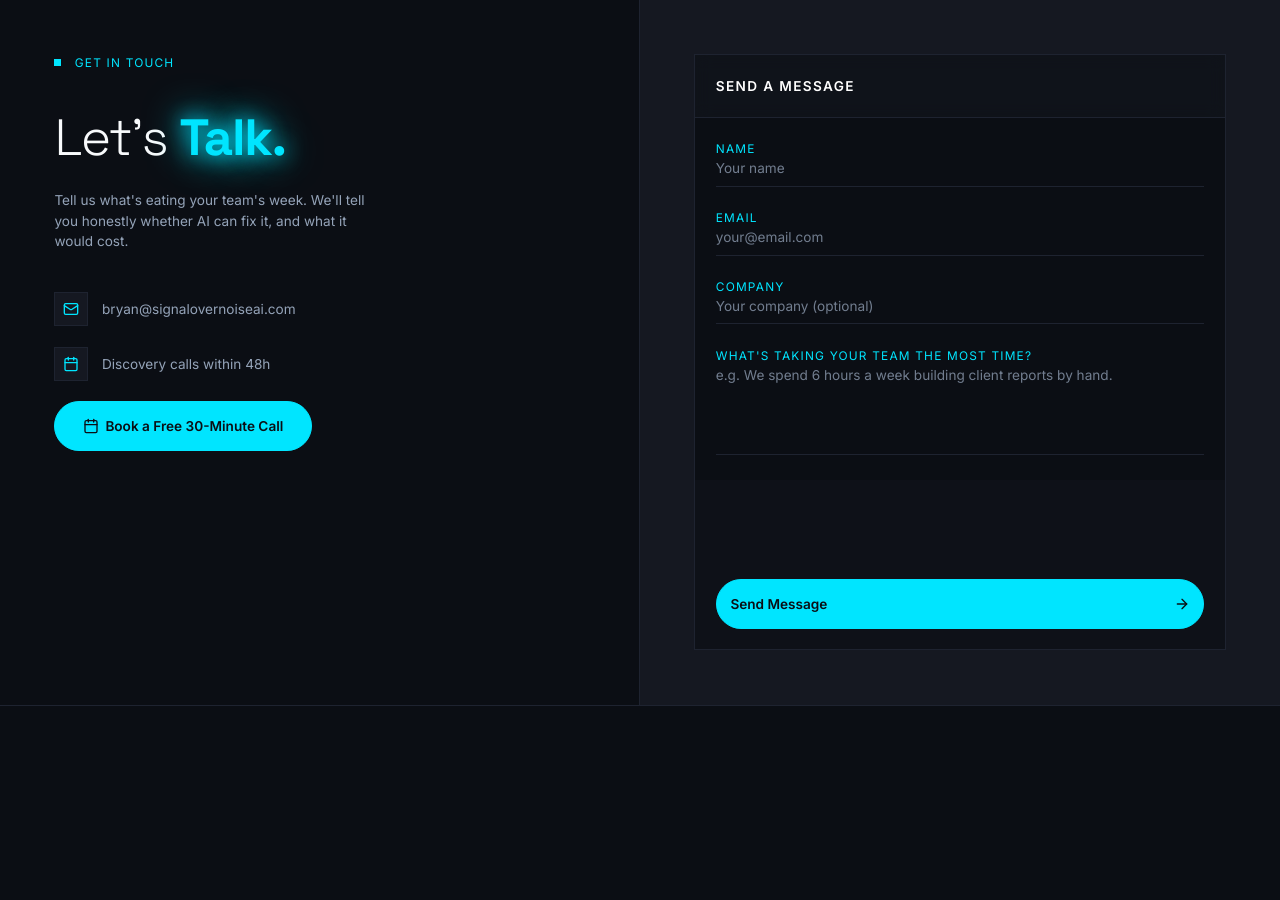
ContactSection when the send fails › keeps what the visitor typed so they can retry
Expected: the button "Send Message" is enabled, [716,579,1204,629]
Type "Ada" into the field labelled "Name" at (960, 172), box [716,158,1204,186]
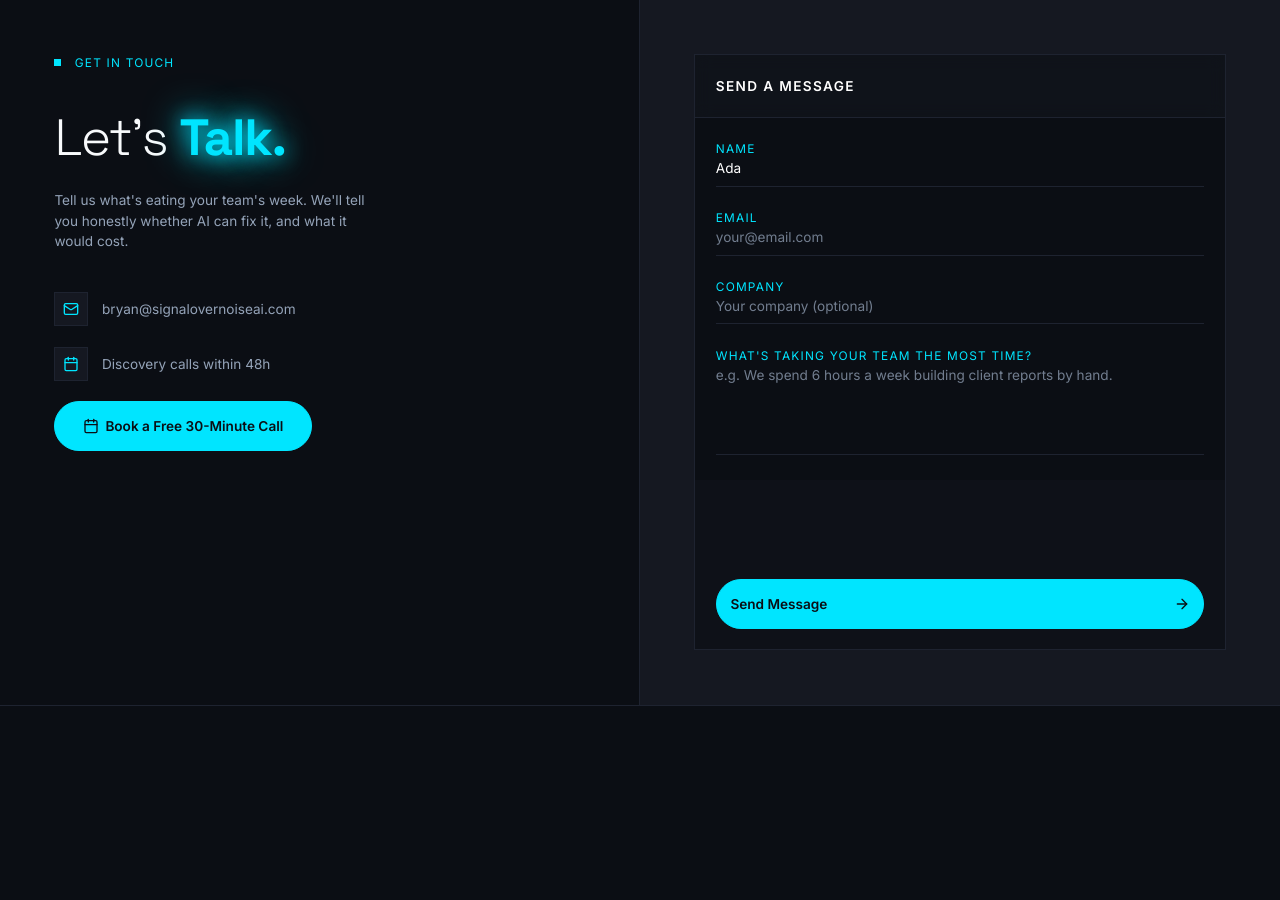
Type "ada@example.com" into the field labelled "Email" at (960, 241), box [716,227,1204,256]
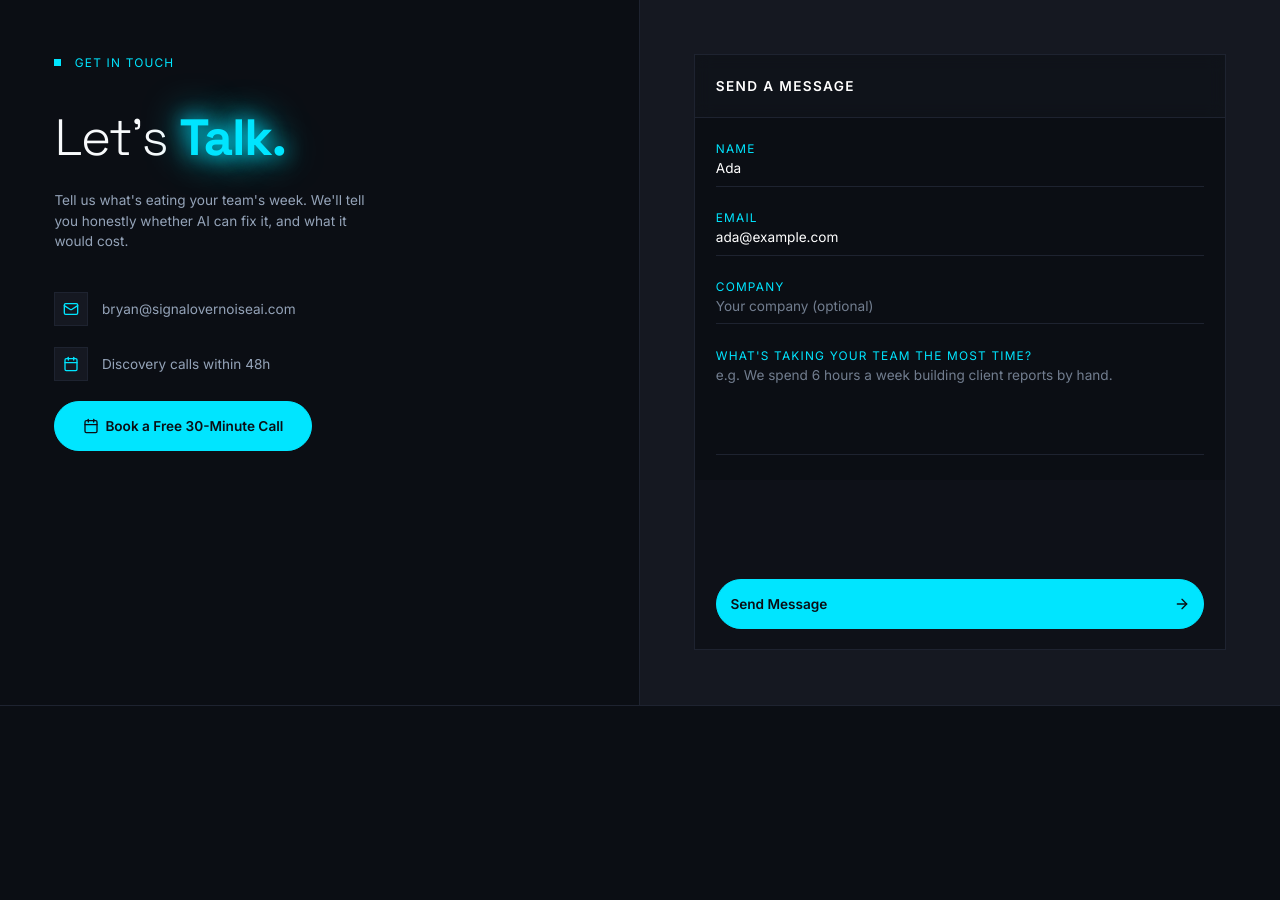
Replace the text in the text box labelled "What's taking your team the most time?" with "Hello" at (960, 410), box [716,365,1204,455]
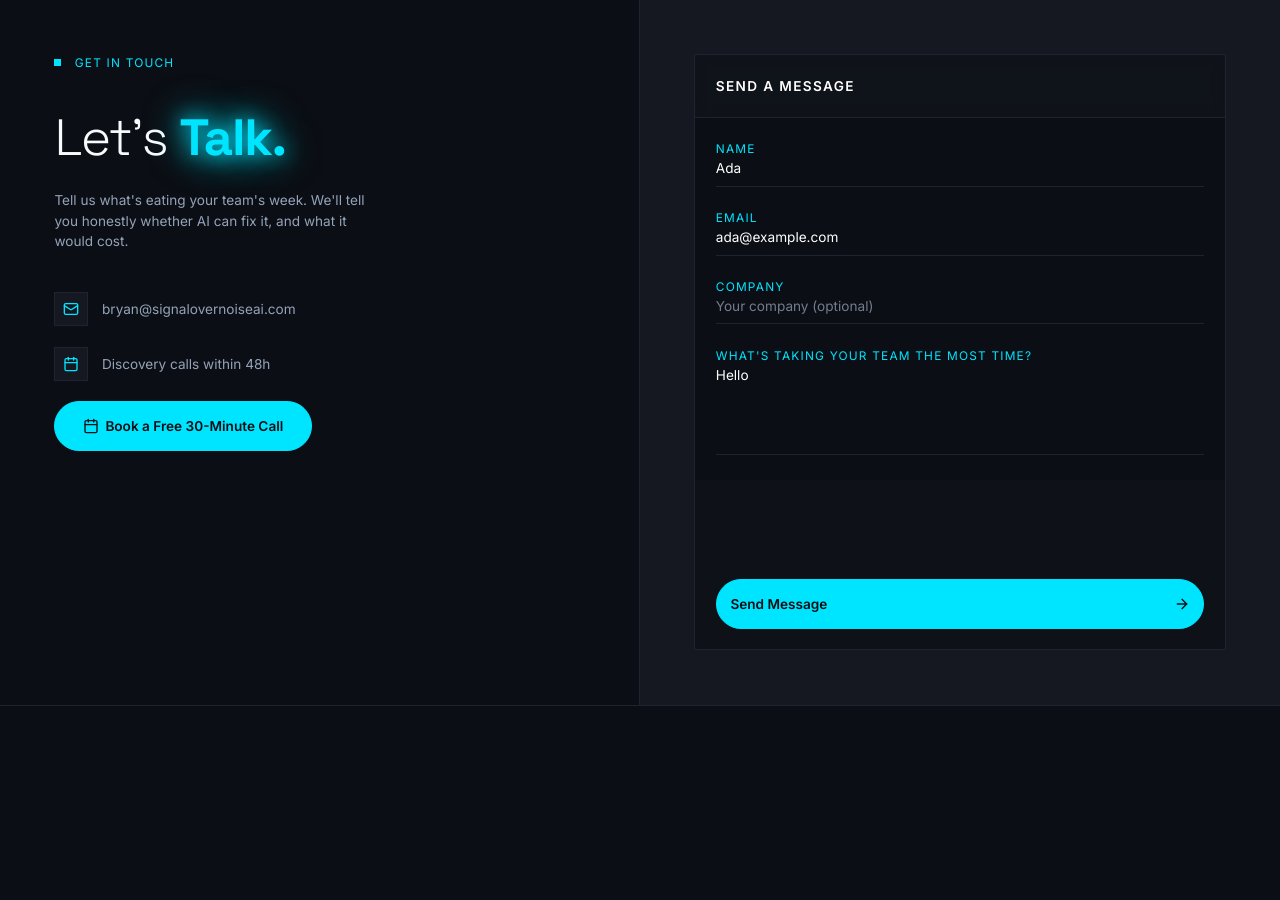
Submit the form named "send message", box [694,54,1226,650]
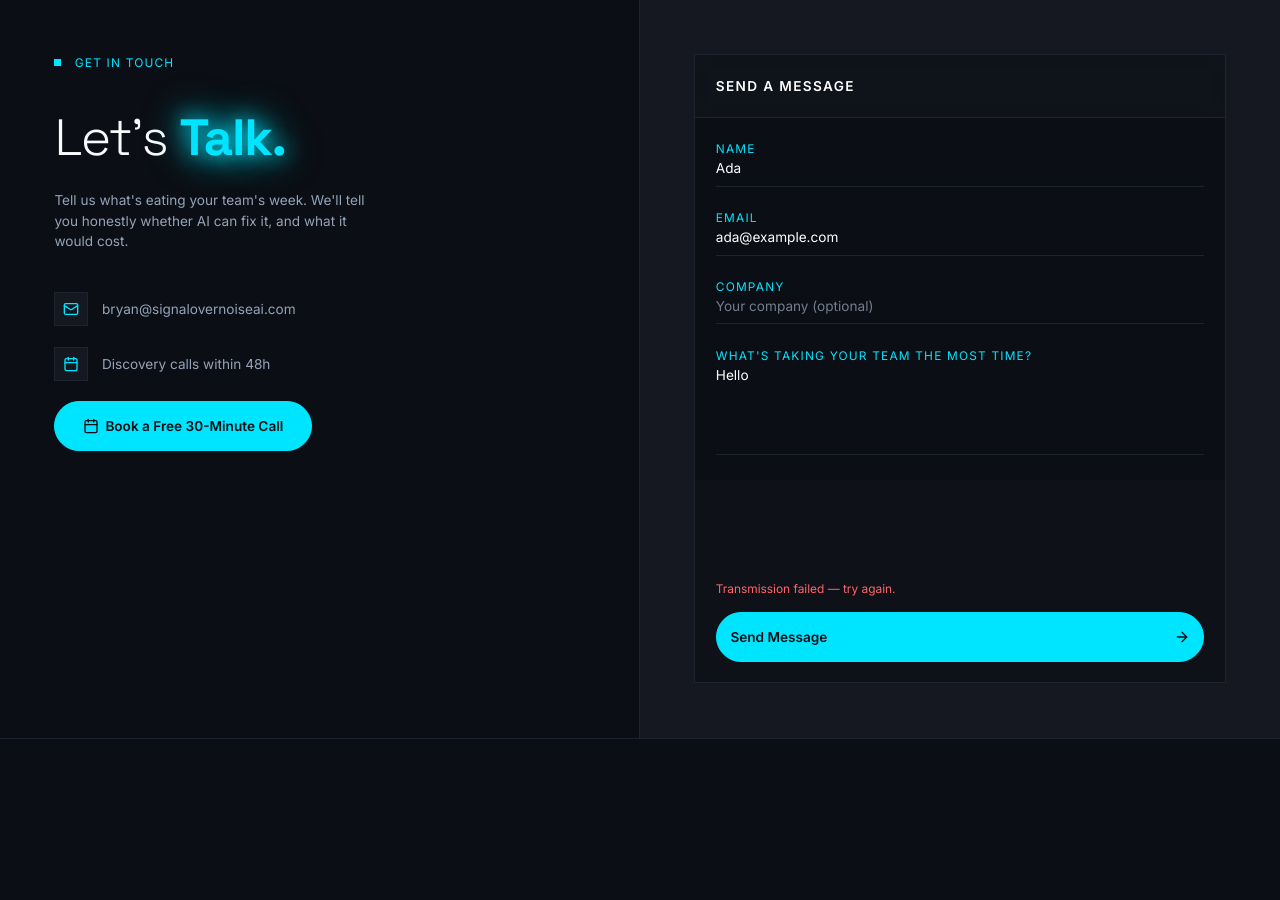
Expected: the message "Transmission failed — try again." is shown, [716,581,896,596]
